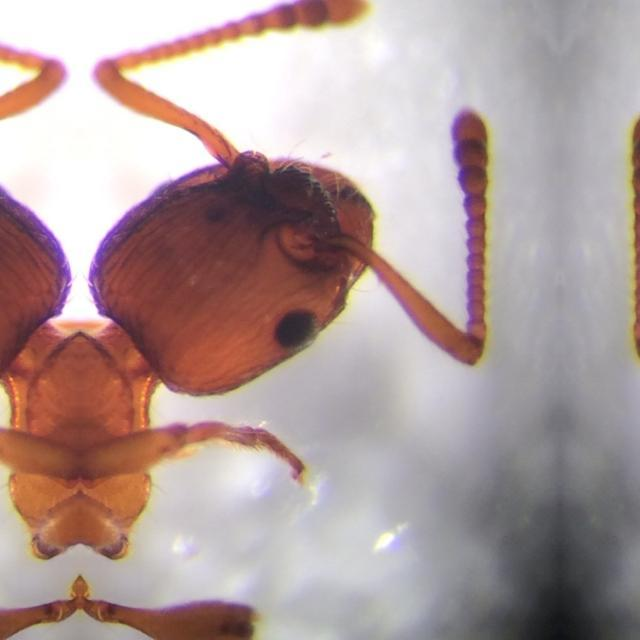Myrmica: (80, 0, 504, 640)
